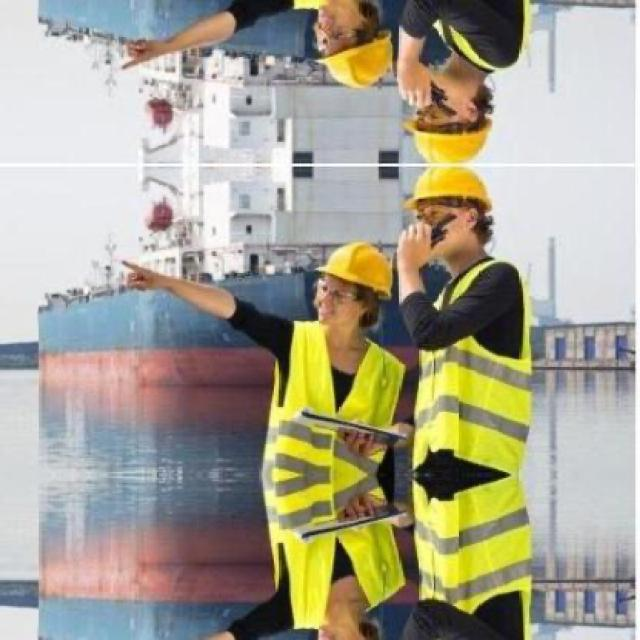con casco: (274, 226, 395, 385), (383, 172, 501, 320)
